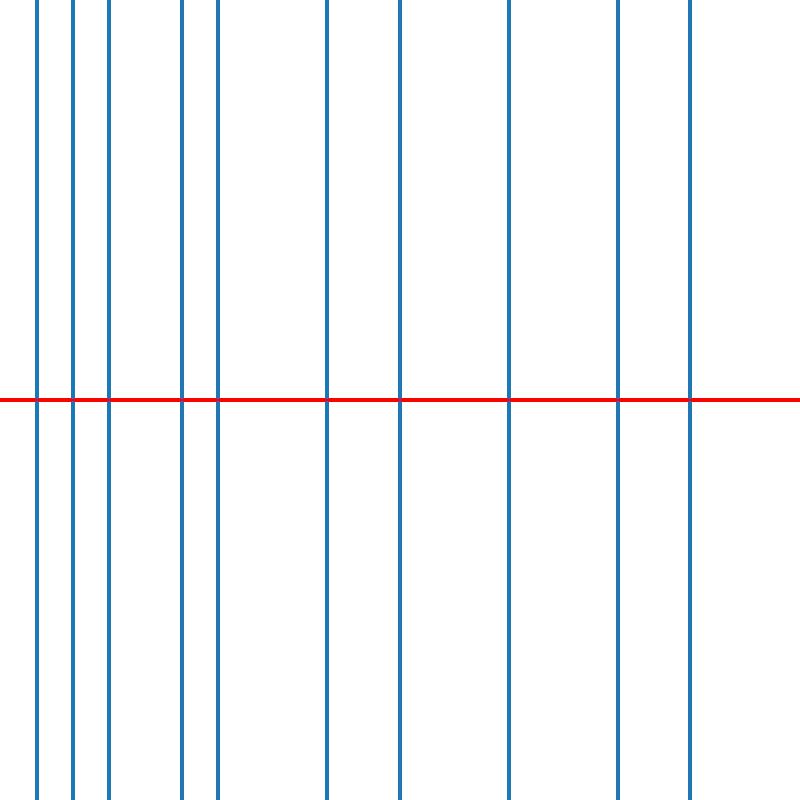root: (32, 396, 40, 404), (178, 396, 185, 404), (614, 396, 621, 404), (69, 396, 76, 404), (505, 396, 512, 404), (396, 396, 403, 404), (323, 396, 330, 404), (105, 396, 112, 404), (214, 396, 221, 404), (687, 396, 694, 404)
